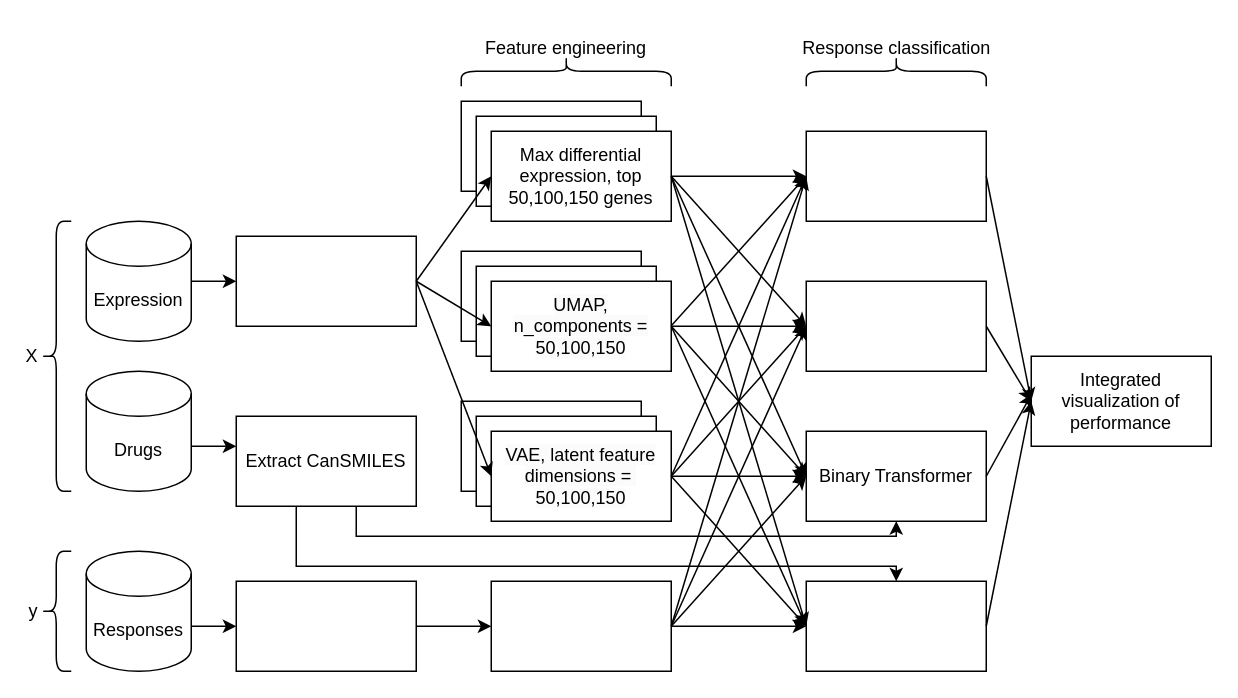
This 1238x698 diagram has some shape labels left out. Here are the shapes that lost their labels. From the top down, the centre of each, then its label:
At point 895,175: "Binary MLP".
At point 325,280: "Average duplicate genes, take intersection across samples".
At point 895,325: "Ternary MLP".
At point 325,625: "Extract AUC".
At point 580,625: "Bin response values into binary or ternary categories".
At point 895,625: "Ternary Transformer".
